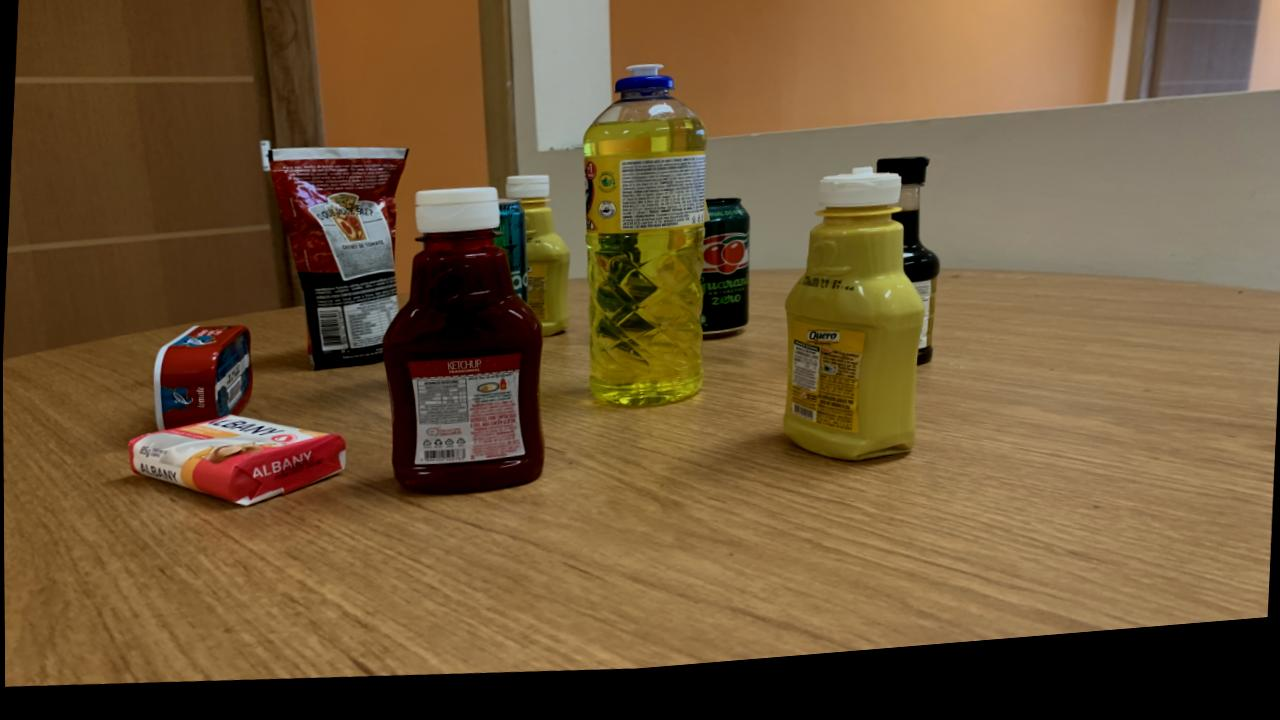Detergent-Cleanup_Items: (582, 77, 705, 417)
English_Sauce-Pantry_Items: (876, 173, 939, 380)
Guarana_Can-Drinks: (700, 211, 749, 348)
Ketchup-Pantry_Items: (383, 195, 543, 500)
Mustard-Pantry_Items: (781, 183, 926, 474), (505, 185, 570, 345)
Soap-Cleanup_Items: (127, 419, 346, 510)
Tomato_Sauce-Pantry_Items: (269, 153, 407, 375)
Tuna_Can-Pantry_Items: (152, 329, 251, 434)
